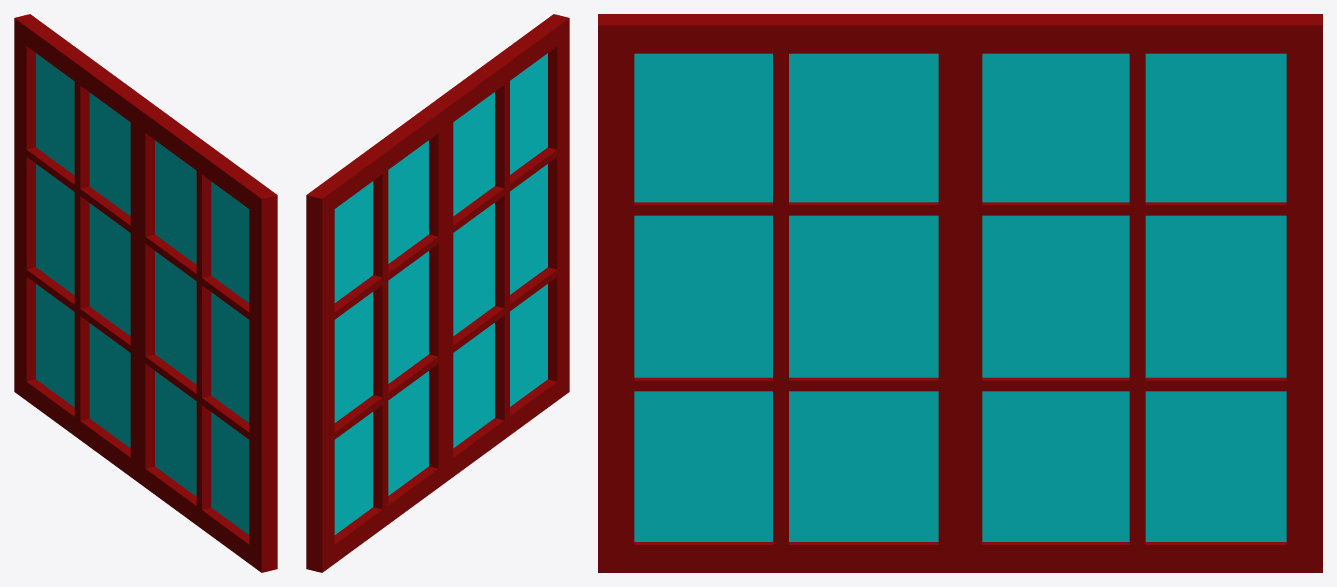
Rendered from K_Window.fbx.
3 views of the same model, side by side, from view 1: azimuth 30°, elevation 25°; view 2: azimuth 150°, elevation 25°; view 3: azimuth 270°, elevation 25° (orthographic). The views are drawn at different scales.
Parts seen in each view (by area): view 1: K_window4; view 2: K_window4; view 3: K_window4.
Boxes of the visible parts, x1,y1,x2,y2 form: K_window4: (14,14,277,572); K_window4: (306,14,569,572); K_window4: (598,14,1322,572).
Bounding box in the file's own units: 4.38 × 97.9 × 117.
